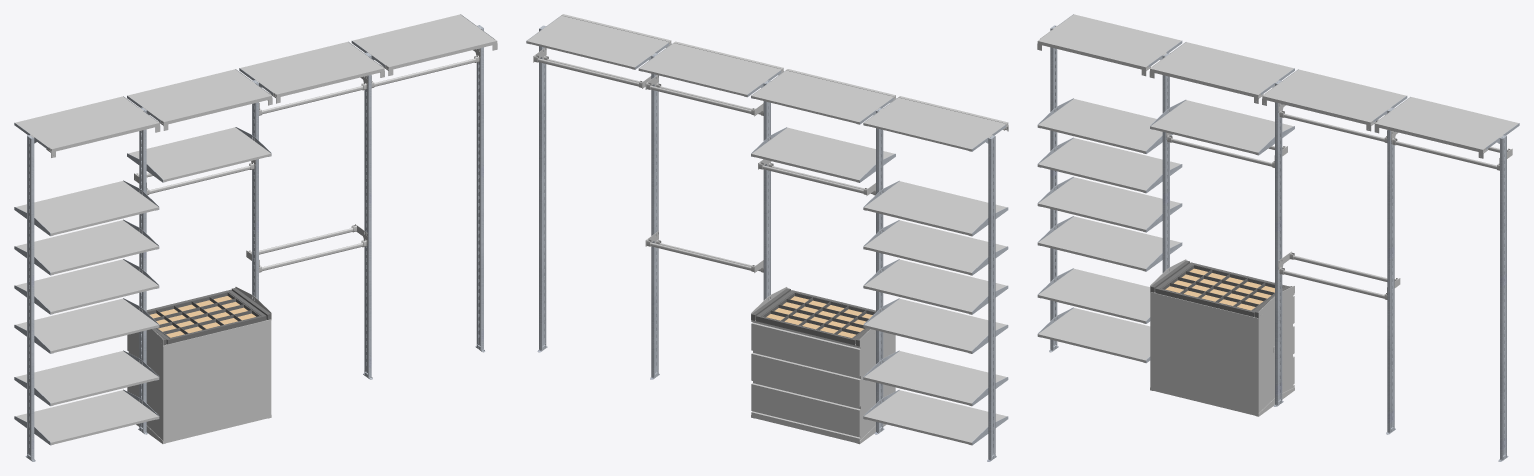
The picture shows the model from 3 angles, left to right: view 1: azimuth 30°, elevation 25°; view 2: azimuth 150°, elevation 25°; view 3: azimuth 330°, elevation 25°; orthographic projection.
Visible parts, largest first — view 1: Geom3D (×7), Geom3D_Geom3D_组件#4_柜子 copy 002_Defintion#5_Geom3D_组件#4_柜子 co, Geom3D_Geom3D_组件#16_Defintion10_Geom3D_组件#16, Geom3D_Geom3D_组件#16_Defintion#18_Geom3D_组件#16, Geom3D_Geom3D_组件#16_Defintion37_Geom3D_组件#16, Geom3D_Geom3D_组件#16_Defintion#16_Geom3D_组件#16, Geom3D_Geom3D_组件#15_木层板（中间） copy 001_Defintion46_Geom3D_组件#1, Geom3D_Geom3D_组件#15_木层板（中间） copy 001_Defintion44_Geom3D_组件#1, Geom3D_Geom3D_组件#15_木层板（中间） copy 001_Defintion6_Geom3D_组件#15, Geom3D_Geom3D_组件#15_木层板（中间） copy 001_Defintion19_Geom3D_组件#1, Geom3D_Geom3D_组件#15_木层板（中间） copy 001_Defintion42_Geom3D_组件#1, Geom3D_Geom3D_组件#15_木层板（中间） copy 001_Defintion#2_Geom3D_组件#1 (+5 smaller); view 2: Geom3D (×7), Geom3D_Geom3D_组件#4_柜子 copy 002_Defintion#5_Geom3D_组件#4_柜子 co, Geom3D_Geom3D_组件#16_Defintion#18_Geom3D_组件#16, Geom3D_Geom3D_组件#16_Defintion37_Geom3D_组件#16, Geom3D_Geom3D_组件#16_Defintion#16_Geom3D_组件#16, Geom3D_Geom3D_组件#16_Defintion10_Geom3D_组件#16, Geom3D_Geom3D_组件#15_木层板（中间） copy 001_Defintion19_Geom3D_组件#1, Geom3D_Geom3D_组件#15_木层板（中间） copy 001_Defintion44_Geom3D_组件#1, Geom3D_Geom3D_组件#15_木层板（中间） copy 001_Defintion#2_Geom3D_组件#1, Geom3D_Geom3D_组件#15_木层板（中间） copy 001_Defintion17_Geom3D_组件#1, Geom3D_Geom3D_组件#15_木层板（中间） copy 001_Defintion42_Geom3D_组件#1, Geom3D_Geom3D_组件#15_木层板（中间） copy 001_Defintion6_Geom3D_组件#15 (+5 smaller); view 3: Geom3D (×7), Geom3D_Geom3D_组件#4_柜子 copy 002_Defintion#5_Geom3D_组件#4_柜子 co, Geom3D_Geom3D_组件#16_Defintion#18_Geom3D_组件#16, Geom3D_Geom3D_组件#16_Defintion10_Geom3D_组件#16, Geom3D_Geom3D_组件#16_Defintion#16_Geom3D_组件#16, Geom3D_Geom3D_组件#16_Defintion37_Geom3D_组件#16, Geom3D_Geom3D_组件#15_木层板（中间） copy 001_Defintion#2_Geom3D_组件#1, Geom3D_Geom3D_组件#15_木层板（中间） copy 001_Defintion6_Geom3D_组件#15, Geom3D_Geom3D_组件#15_木层板（中间） copy 001_Defintion46_Geom3D_组件#1, Geom3D_Geom3D_组件#15_木层板（中间） copy 001_Defintion19_Geom3D_组件#1, Geom3D_Geom3D_组件#15_木层板（中间） copy 001_Defintion17_Geom3D_组件#1, Geom3D_Geom3D_组件#15_木层板（中间） copy 001_Defintion44_Geom3D_组件#1 (+5 smaller).
Boxes of the visible parts, x1,y1,x2,y2 form: Geom3D (×7): (25, 25, 485, 461); Geom3D_Geom3D_组件#4_柜子 copy 002_Defintion#5_Geom3D_组件#4_柜子 co: (127, 319, 271, 443); Geom3D_Geom3D_组件#16_Defintion10_Geom3D_组件#16: (353, 14, 497, 75); Geom3D_Geom3D_组件#16_Defintion#18_Geom3D_组件#16: (15, 96, 160, 157); Geom3D_Geom3D_组件#16_Defintion37_Geom3D_组件#16: (127, 69, 272, 130); Geom3D_Geom3D_组件#16_Defintion#16_Geom3D_组件#16: (240, 42, 384, 103); Geom3D_Geom3D_组件#15_木层板（中间） copy 001_Defintion46_Geom3D_组件#1: (128, 127, 271, 182); Geom3D_Geom3D_组件#15_木层板（中间） copy 001_Defintion44_Geom3D_组件#1: (16, 390, 158, 444); Geom3D_Geom3D_组件#15_木层板（中间） copy 001_Defintion6_Geom3D_组件#15: (16, 220, 158, 274); Geom3D_Geom3D_组件#15_木层板（中间） copy 001_Defintion19_Geom3D_组件#1: (16, 298, 158, 353); Geom3D_Geom3D_组件#15_木层板（中间） copy 001_Defintion42_Geom3D_组件#1: (16, 351, 158, 405); Geom3D_Geom3D_组件#15_木层板（中间） copy 001_Defintion#2_Geom3D_组件#1: (16, 259, 158, 314); Geom3D (×7): (537, 25, 996, 461); Geom3D_Geom3D_组件#4_柜子 copy 002_Defintion#5_Geom3D_组件#4_柜子 co: (751, 320, 895, 444); Geom3D_Geom3D_组件#16_Defintion#18_Geom3D_组件#16: (863, 96, 1008, 151); Geom3D_Geom3D_组件#16_Defintion37_Geom3D_组件#16: (751, 69, 896, 124); Geom3D_Geom3D_组件#16_Defintion#16_Geom3D_组件#16: (639, 41, 783, 96); Geom3D_Geom3D_组件#16_Defintion10_Geom3D_组件#16: (526, 14, 671, 69); Geom3D_Geom3D_组件#15_木层板（中间） copy 001_Defintion19_Geom3D_组件#1: (863, 299, 1006, 353); Geom3D_Geom3D_组件#15_木层板（中间） copy 001_Defintion44_Geom3D_组件#1: (863, 390, 1006, 444); Geom3D_Geom3D_组件#15_木层板（中间） copy 001_Defintion#2_Geom3D_组件#1: (863, 259, 1006, 314); Geom3D_Geom3D_组件#15_木层板（中间） copy 001_Defintion17_Geom3D_组件#1: (863, 181, 1006, 235); Geom3D_Geom3D_组件#15_木层板（中间） copy 001_Defintion42_Geom3D_组件#1: (863, 351, 1006, 405); Geom3D_Geom3D_组件#15_木层板（中间） copy 001_Defintion6_Geom3D_组件#15: (863, 220, 1006, 275); Geom3D (×7): (1049, 25, 1508, 461); Geom3D_Geom3D_组件#4_柜子 copy 002_Defintion#5_Geom3D_组件#4_柜子 co: (1150, 292, 1294, 416); Geom3D_Geom3D_组件#16_Defintion#18_Geom3D_组件#16: (1037, 14, 1181, 76); Geom3D_Geom3D_组件#16_Defintion10_Geom3D_组件#16: (1374, 97, 1518, 158); Geom3D_Geom3D_组件#16_Defintion#16_Geom3D_组件#16: (1262, 69, 1406, 131); Geom3D_Geom3D_组件#16_Defintion37_Geom3D_组件#16: (1149, 42, 1293, 103); Geom3D_Geom3D_组件#15_木层板（中间） copy 001_Defintion#2_Geom3D_组件#1: (1038, 177, 1180, 231); Geom3D_Geom3D_组件#15_木层板（中间） copy 001_Defintion6_Geom3D_组件#15: (1038, 138, 1180, 192); Geom3D_Geom3D_组件#15_木层板（中间） copy 001_Defintion46_Geom3D_组件#1: (1150, 100, 1293, 154); Geom3D_Geom3D_组件#15_木层板（中间） copy 001_Defintion19_Geom3D_组件#1: (1038, 216, 1180, 271); Geom3D_Geom3D_组件#15_木层板（中间） copy 001_Defintion17_Geom3D_组件#1: (1038, 99, 1162, 153); Geom3D_Geom3D_组件#15_木层板（中间） copy 001_Defintion44_Geom3D_组件#1: (1038, 308, 1150, 362).
Size of the model in its own units: 3.63 by 2.47 by 0.5082.
Materials: 3 (1 with a texture image).
